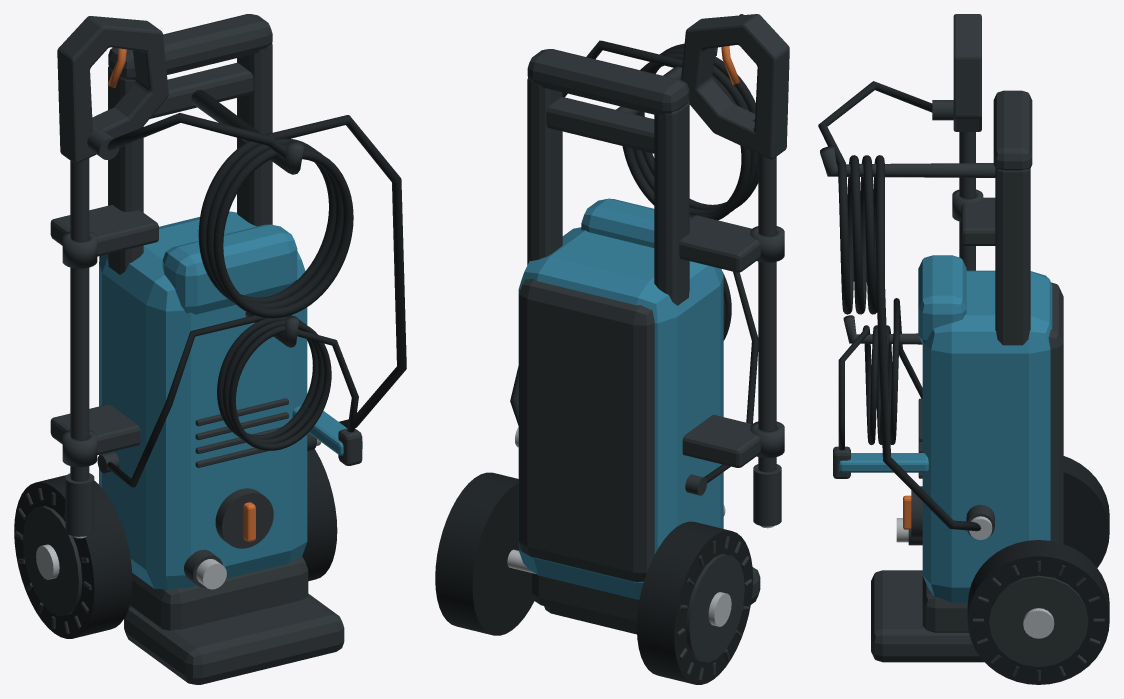
3 renders of one model, left to right at view 1: azimuth 30°, elevation 25°; view 2: azimuth 150°, elevation 25°; view 3: azimuth 270°, elevation 25°, orthographic. The views are drawn at different scales.
Visible parts, largest first — view 1: Closed pump motor housing, Continuous stored high pressure hose, Grounded front standing foot, Stored trigger gun solid ring with open guard, Continuous stored power lead, Grounded wheel tire -1, Upper body control pod, Lower body foot bridge, Stored lance main barrel, Upper carry cross grip, Wheel inset hub -1, Tall carry handle upright 1 (+16 smaller); view 2: Rear closed housing panel, Closed pump motor housing, Grounded wheel tire 1, Stored trigger gun solid ring with open guard, Grounded wheel tire -1, Tall carry handle upright -1, Upper carry cross grip, Tall carry handle upright 1, Continuous stored high pressure hose, Stored lance main barrel, Wheel inset hub -1, Hose hook structural cross mount (+10 smaller); view 3: Closed pump motor housing, Continuous stored high pressure hose, Grounded wheel tire 1, Wheel inset hub 1, Grounded front standing foot, Tall carry handle upright 1, Continuous stored power lead, Grounded wheel tire -1, Rear closed housing panel, Upper body control pod, Stored trigger gun solid ring with open guard, Upper carry cross grip (+9 smaller).
Part boxes in pixels (box(x1,y1,x2,y2)): Closed pump motor housing: box(99, 211, 307, 590); Continuous stored high pressure hose: box(107, 113, 406, 427); Grounded front standing foot: box(124, 593, 344, 684); Stored trigger gun solid ring with open guard: box(57, 16, 168, 163); Continuous stored power lead: box(106, 315, 358, 487); Grounded wheel tire -1: box(14, 475, 132, 638); Upper body control pod: box(162, 224, 297, 314); Lower body foot bridge: box(129, 557, 308, 630); Stored lance main barrel: box(70, 158, 89, 481); Upper carry cross grip: box(108, 14, 272, 80); Wheel inset hub -1: box(22, 506, 82, 616); Tall carry handle upright 1: box(237, 43, 272, 226); Rear closed housing panel: box(519, 279, 654, 581); Closed pump motor housing: box(518, 227, 723, 599); Grounded wheel tire 1: box(435, 472, 534, 635); Stored trigger gun solid ring with open guard: box(681, 14, 789, 159); Grounded wheel tire -1: box(637, 521, 753, 684); Tall carry handle upright -1: box(654, 100, 689, 305); Upper carry cross grip: box(527, 49, 689, 114); Tall carry handle upright 1: box(527, 78, 562, 264); Continuous stored high pressure hose: box(510, 14, 758, 425); Stored lance main barrel: box(758, 154, 776, 472); Wheel inset hub -1: box(686, 554, 744, 662); Hose hook structural cross mount: box(546, 97, 654, 153); Closed pump motor housing: box(922, 270, 1052, 602); Continuous stored high pressure hose: box(818, 81, 980, 531); Grounded wheel tire 1: box(967, 540, 1109, 684); Wheel inset hub 1: box(989, 575, 1088, 666); Grounded front standing foot: box(871, 570, 984, 662); Tall carry handle upright 1: box(995, 168, 1030, 345); Continuous stored power lead: box(838, 298, 922, 450); Grounded wheel tire -1: box(1063, 456, 1109, 567); Rear closed housing panel: box(1048, 282, 1063, 543); Upper body control pod: box(918, 255, 966, 345); Stored trigger gun solid ring with open guard: box(953, 14, 981, 131); Upper carry cross grip: box(993, 90, 1032, 170).
Bounding box in the file's own units: 0.4689 × 0.9689 × 0.4516.
